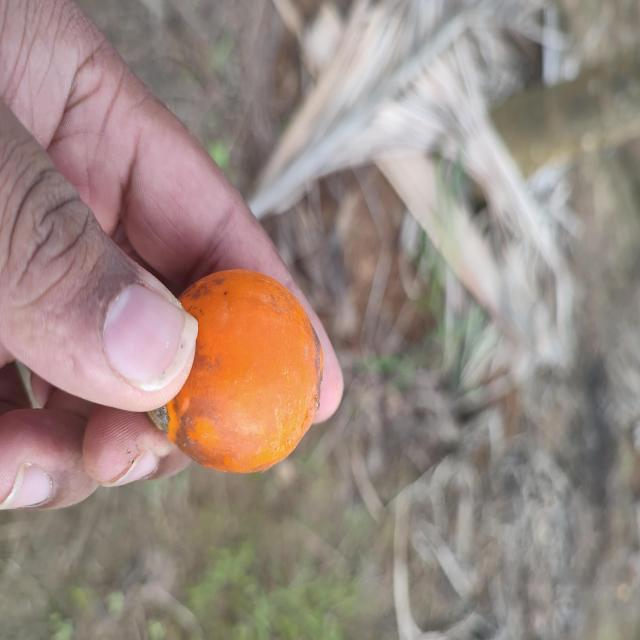good: (148, 270, 321, 474)
